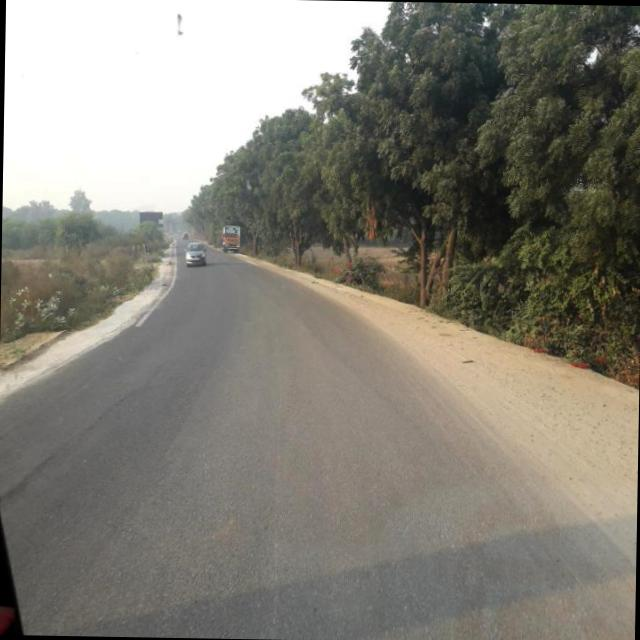pothole: (14, 362, 164, 497)
